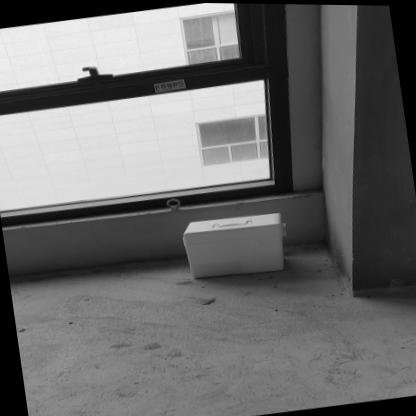DDL: (181, 206, 290, 281)
